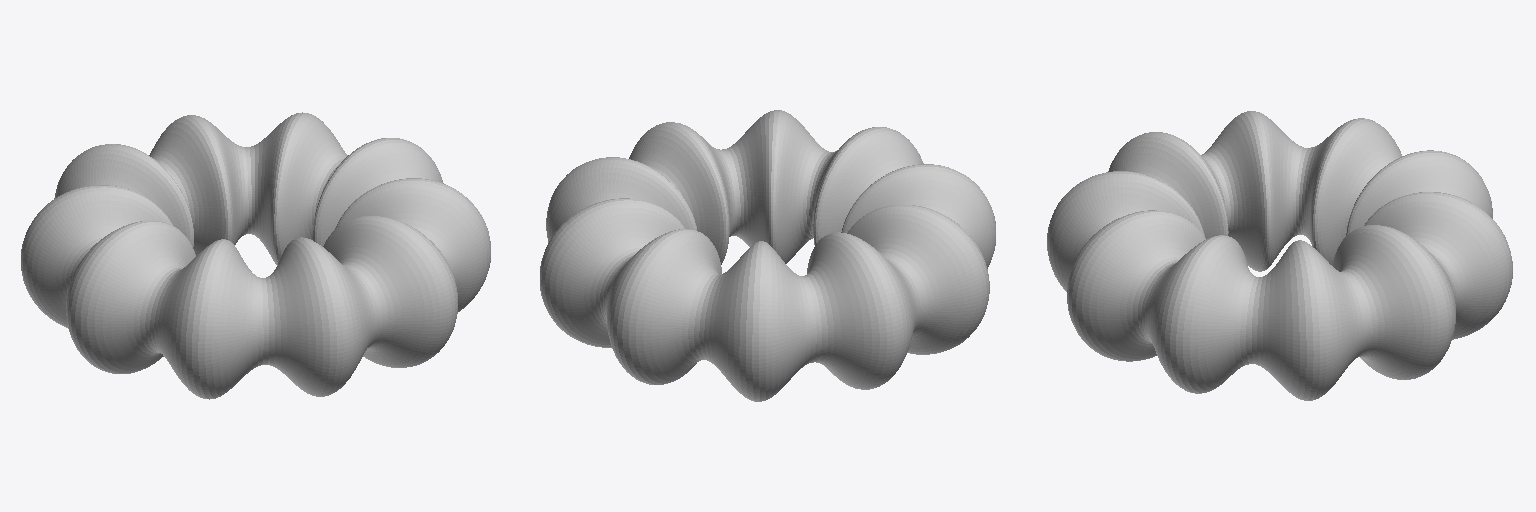
The model's file is ringedtorus.obj.
The picture shows the model from 3 angles: view 1: azimuth 30°, elevation 25°; view 2: azimuth 150°, elevation 25°; view 3: azimuth 270°, elevation 25°; orthographic projection.
Parts seen in each view (by area): view 1: XYZ_Function.006; view 2: XYZ_Function.006; view 3: XYZ_Function.006.
Boxes of the visible parts, box(x1,y1,x2,y2) form: XYZ_Function.006: box(21, 112, 490, 399); XYZ_Function.006: box(540, 110, 995, 401); XYZ_Function.006: box(1047, 111, 1512, 400).
Size of the model in its own units: 15.03 by 5.19 by 15.03.